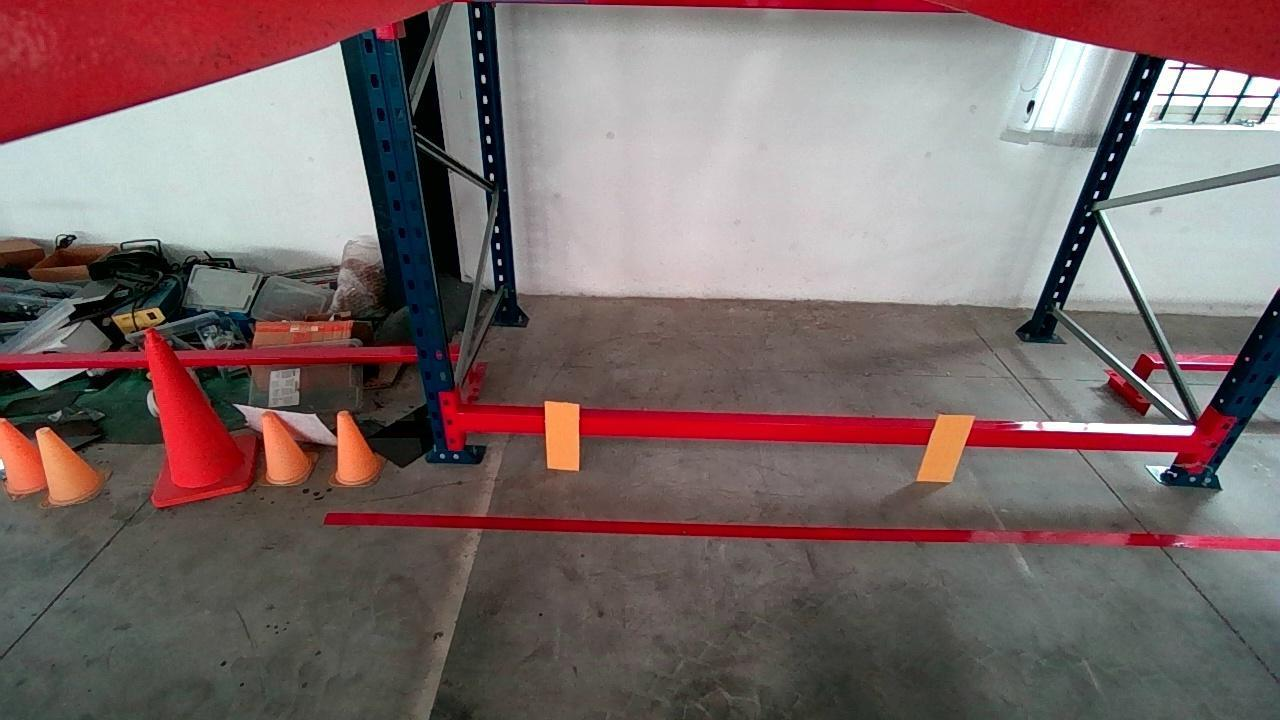h_rack: (457, 406, 1206, 456)
orange_strip: (919, 415, 974, 482), (546, 402, 579, 468)
red_line: (325, 512, 1277, 548)
